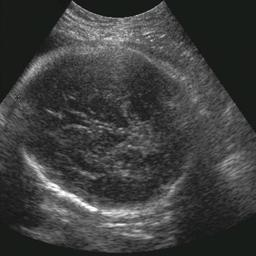abnormal: (4, 44, 210, 218)
